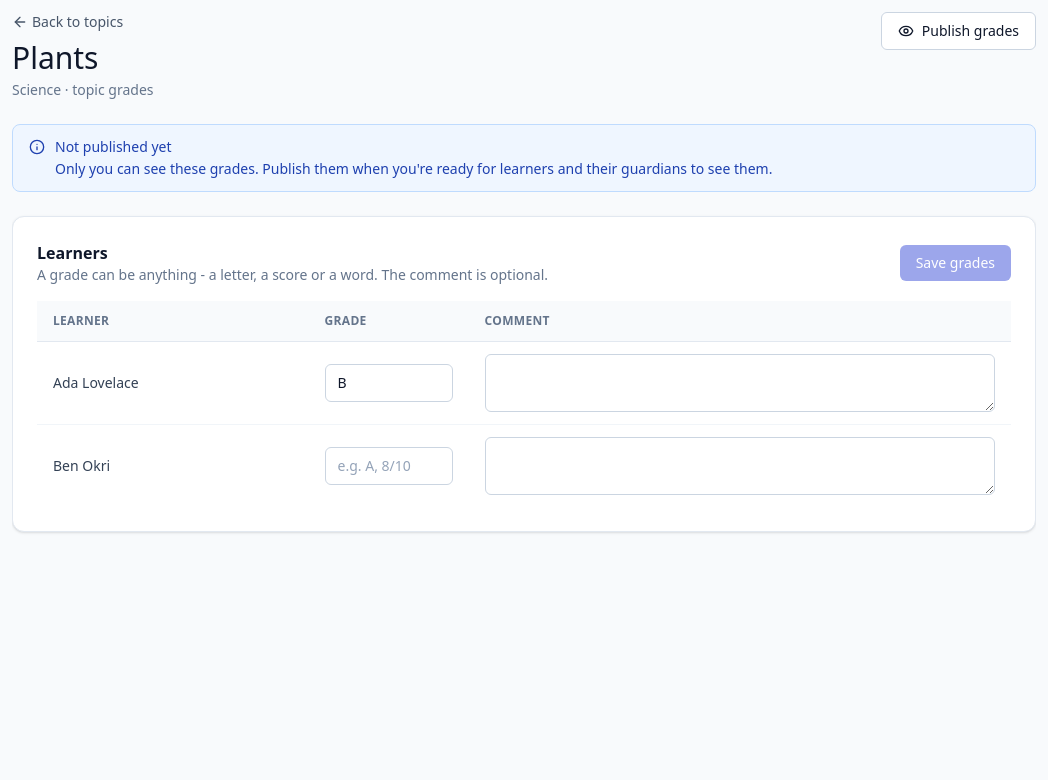
it: TopicGradesPage › refuses a comment without a grade and blocks publishing while changes are unsaved
This screenshot has width=1048, height=780.
Type "Needs a grade" into the text box named "Comment for Ben Okri" at (740, 466), box [485,437,995,495]
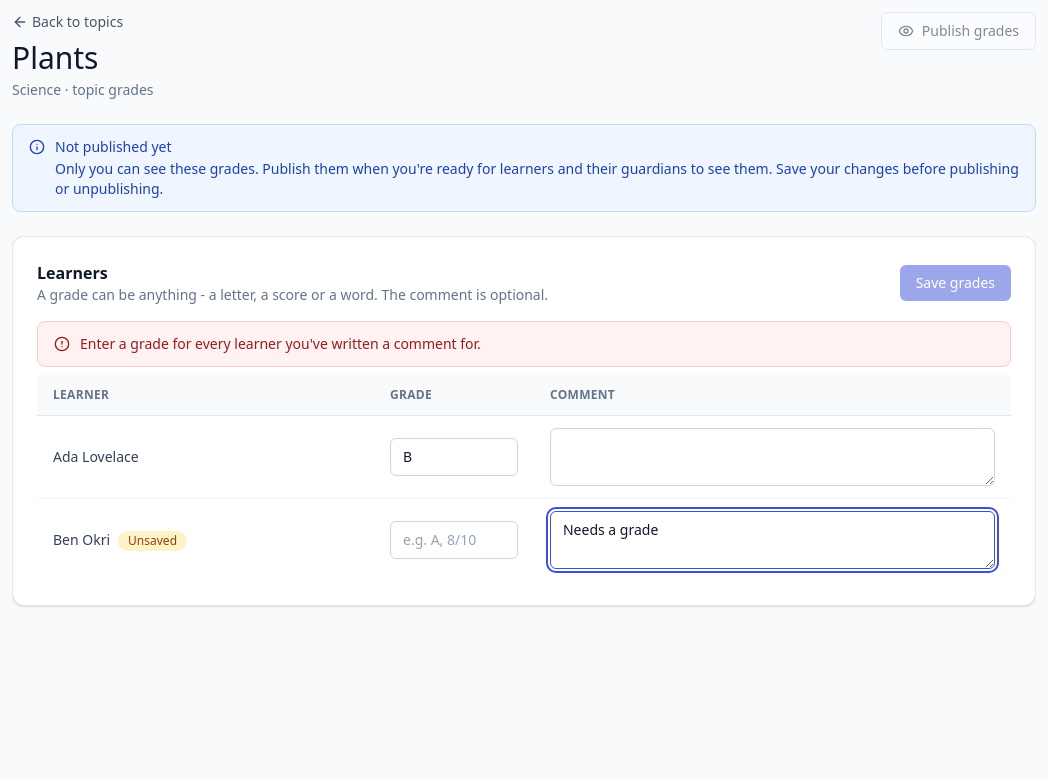
Expected: the button "Save grades" is disabled, [900,265,1011,301]
Now the text "Enter a grade for every learner you've written a comment for." is shown, box [80,334,481,354]
Now the button "Publish grades" is disabled, box [881,12,1036,50]
